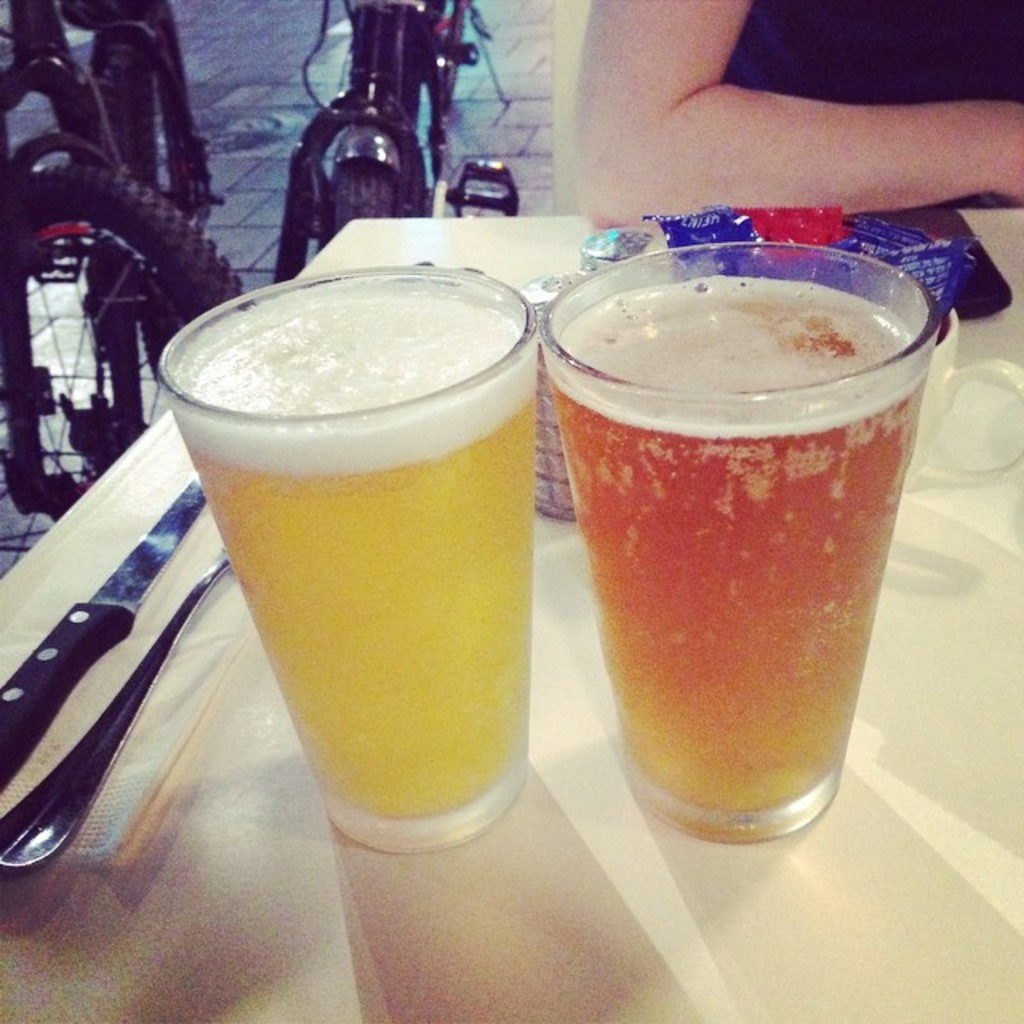Beer: (540, 272, 923, 835), (172, 291, 536, 819)
